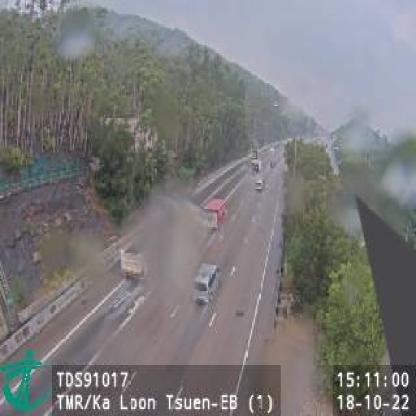Car: (193, 260, 221, 306), (256, 175, 266, 191)
Truck: (204, 196, 226, 234)
